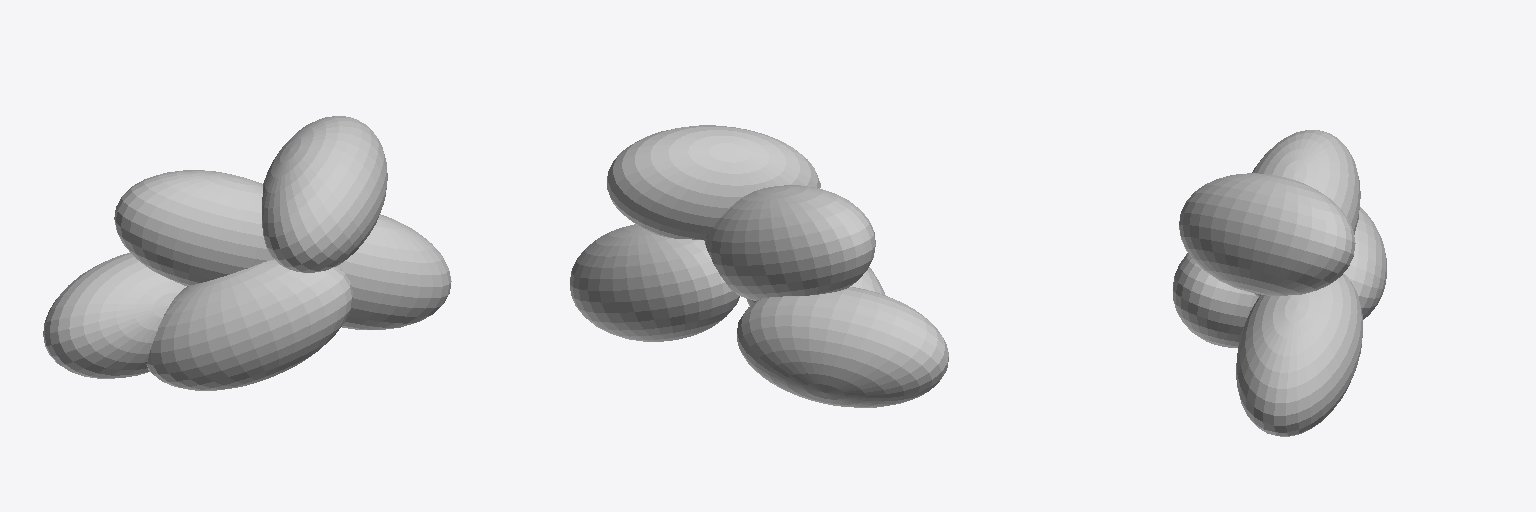
Rendered from good_icloud.obj.
3 views of the same model, side by side, from view 1: azimuth 30°, elevation 25°; view 2: azimuth 150°, elevation 25°; view 3: azimuth 270°, elevation 25° (orthographic).
Parts seen in each view (by area): view 1: Sphere.003; view 2: Sphere.003; view 3: Sphere.003.
Boxes of the visible parts, x1=… form: Sphere.003: x1=43, y1=116, x2=451, y2=390; Sphere.003: x1=570, y1=125, x2=948, y2=407; Sphere.003: x1=1173, y1=130, x2=1386, y2=436.
Size of the model in its own units: 13.61 by 7.27 by 6.6.